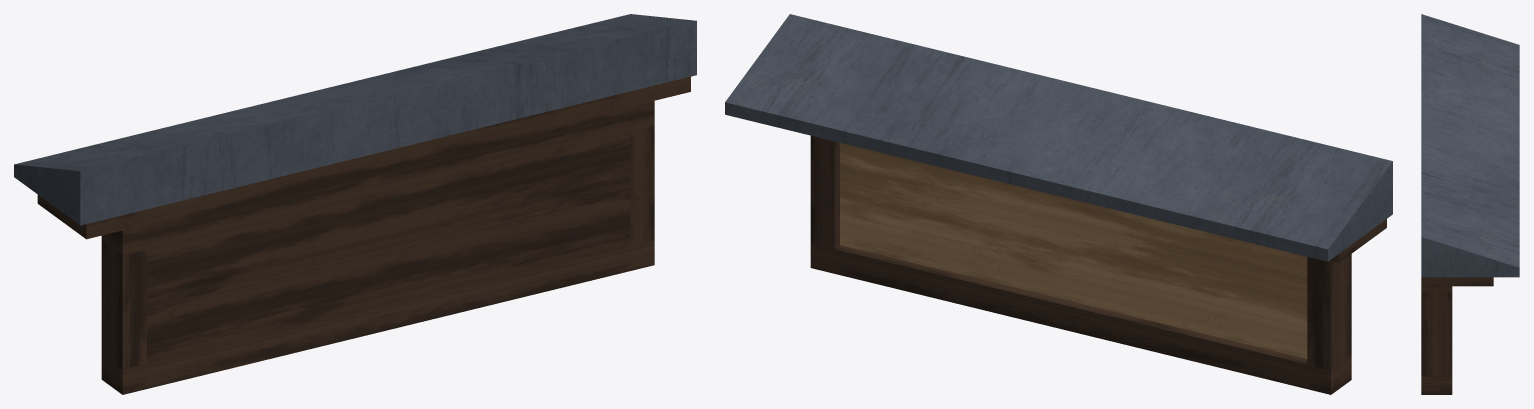
The model's file is HO_Prop_Signboard_Roof.fbx.
The picture shows the model from 3 angles, left to right: view 1: azimuth 30°, elevation 25°; view 2: azimuth 150°, elevation 25°; view 3: azimuth 270°, elevation 25°; orthographic projection. The views are drawn at different scales.
Parts seen in each view (by area): view 1: HO_Prop_Signboard_Roof; view 2: HO_Prop_Signboard_Roof, HO_Prop_Signboard_Roof_Face; view 3: HO_Prop_Signboard_Roof.
Part boxes in pixels (<box>): HO_Prop_Signboard_Roof: <box>14,14,696,394</box>; HO_Prop_Signboard_Roof: <box>725,14,1392,394</box>; HO_Prop_Signboard_Roof_Face: <box>840,143,1307,358</box>; HO_Prop_Signboard_Roof: <box>1421,14,1519,394</box>.
Size of the model in its own units: 5.1 by 1.85 by 0.95.
